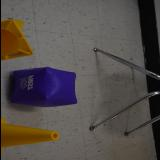cone: (1, 117, 58, 155), (0, 18, 33, 61)
cube: (9, 66, 77, 107)
